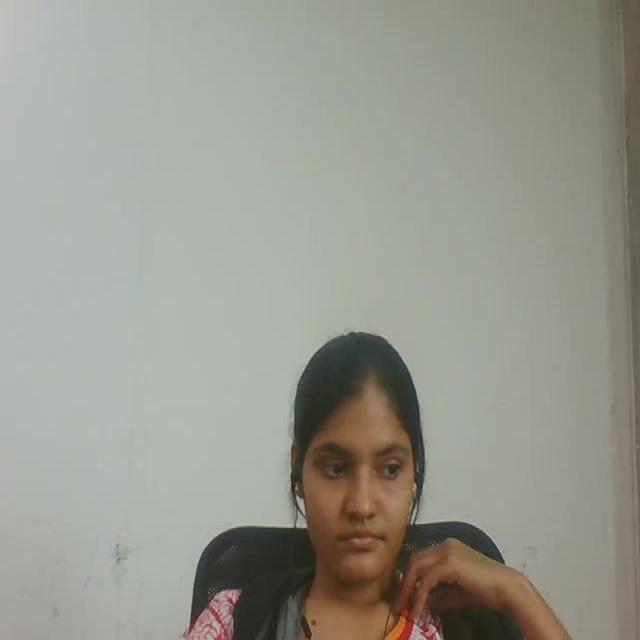Engaged: (281, 302, 444, 614)
